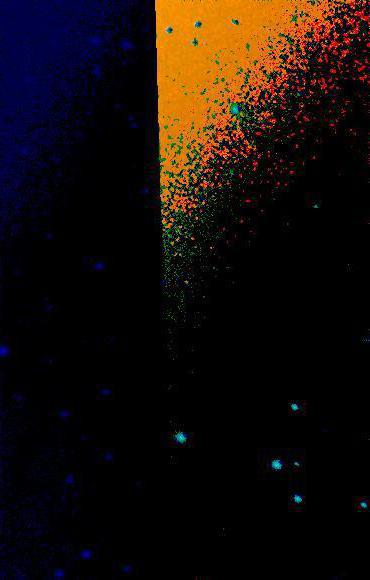star: (314, 295, 344, 325)
